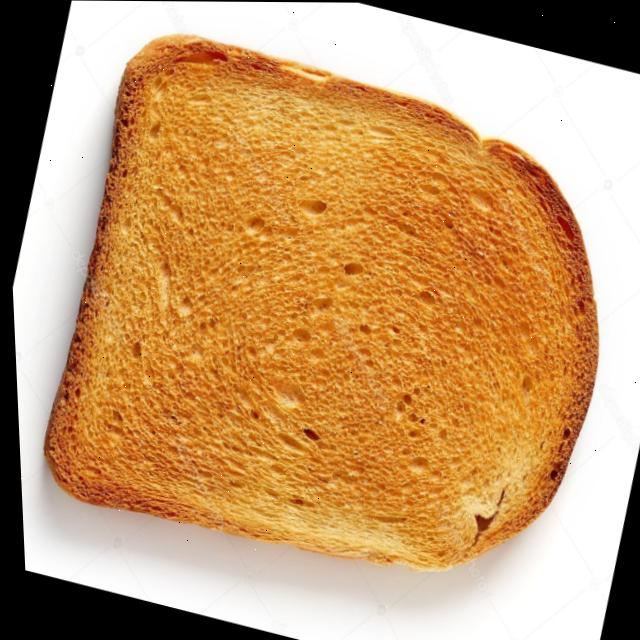Bread: (39, 35, 593, 569)
